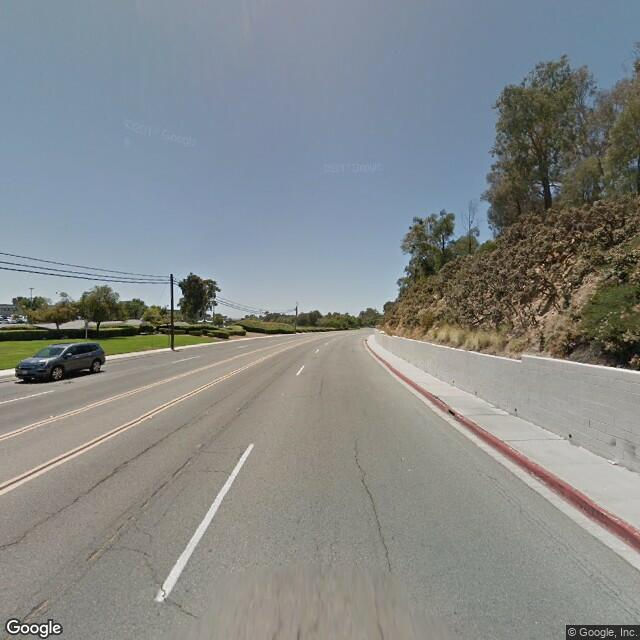litter: (606, 458, 622, 468)
